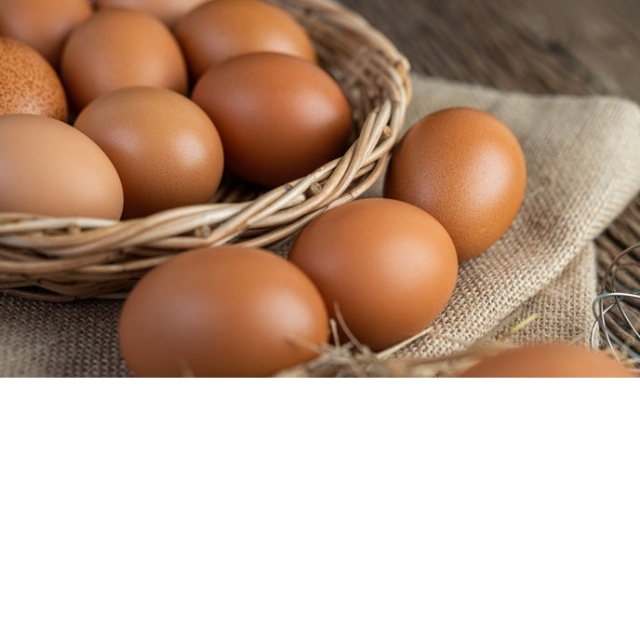mit: (114, 244, 332, 376), (288, 196, 460, 356), (387, 104, 529, 268), (189, 52, 357, 189), (70, 83, 225, 215), (1, 109, 124, 236), (57, 6, 190, 112)
